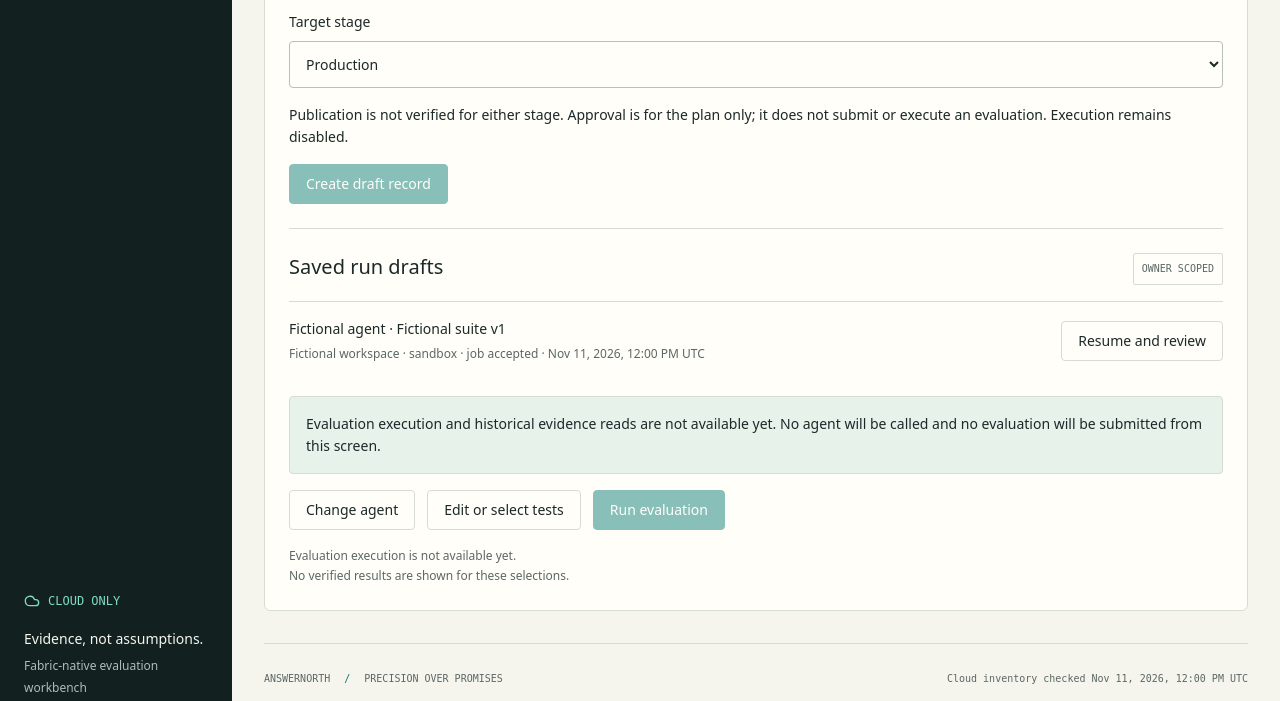
notebook job status › does not request status when the in-flight marker cannot be saved
This screenshot has width=1280, height=701.
(page scrolled)
Click the button "Resume and review" at (1142, 341), box [1061,321,1223,361]
(page scrolled)
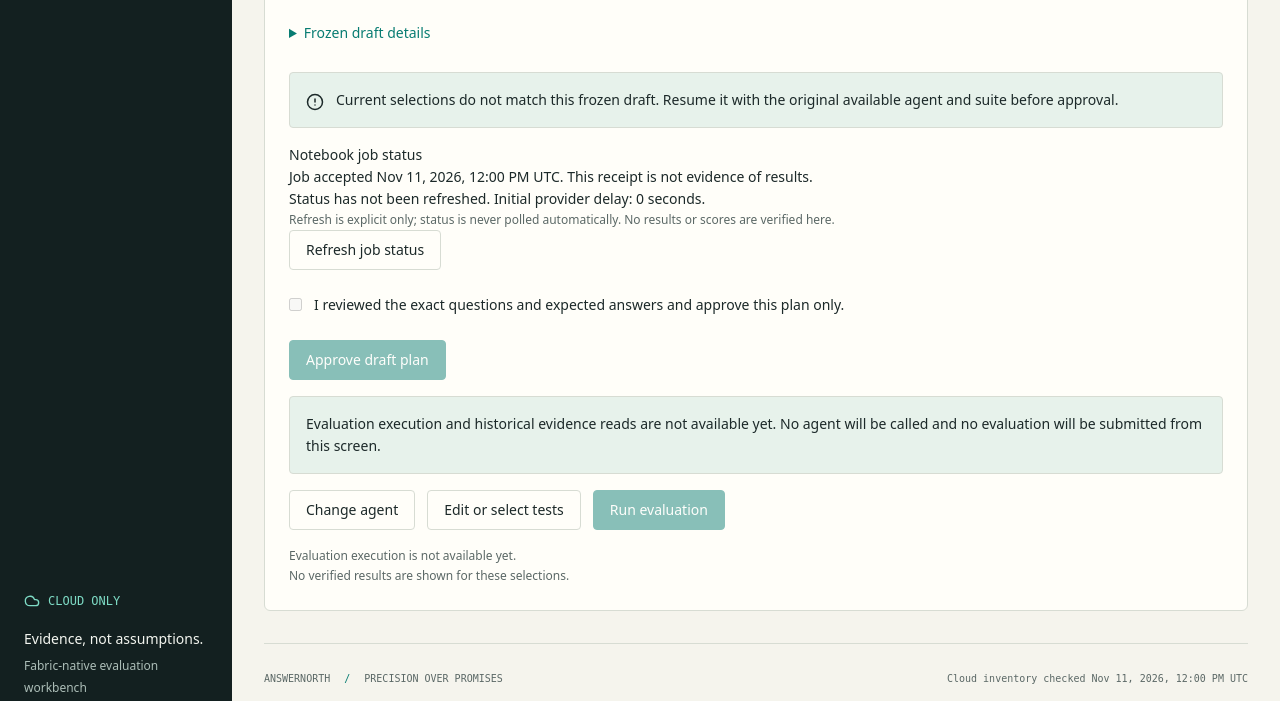
Click the button "Refresh job status" at (365, 250), box [289,230,441,270]
(page scrolled)
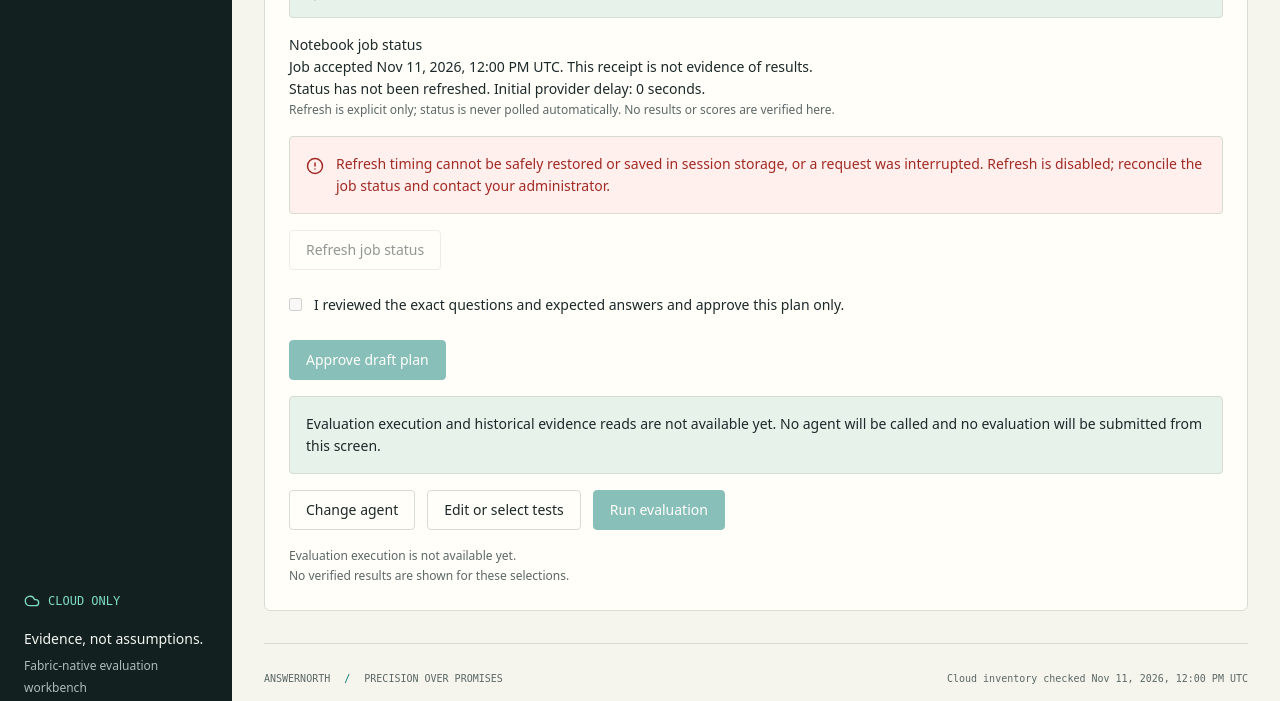
Result: the button "Refresh job status" is disabled at [289,230,441,270]
Result: the text "Refresh timing cannot be safely restored" is shown at [336,154,1202,195]
